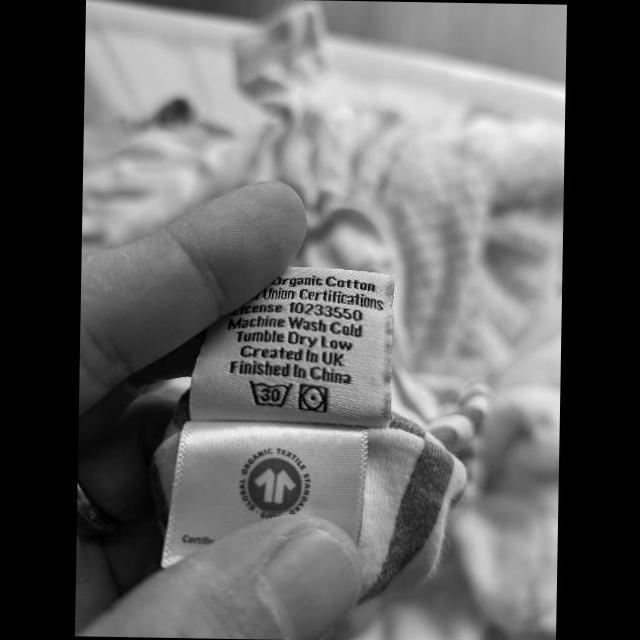30C: (243, 377, 294, 409)
tumble_dry_low: (296, 380, 330, 414)
